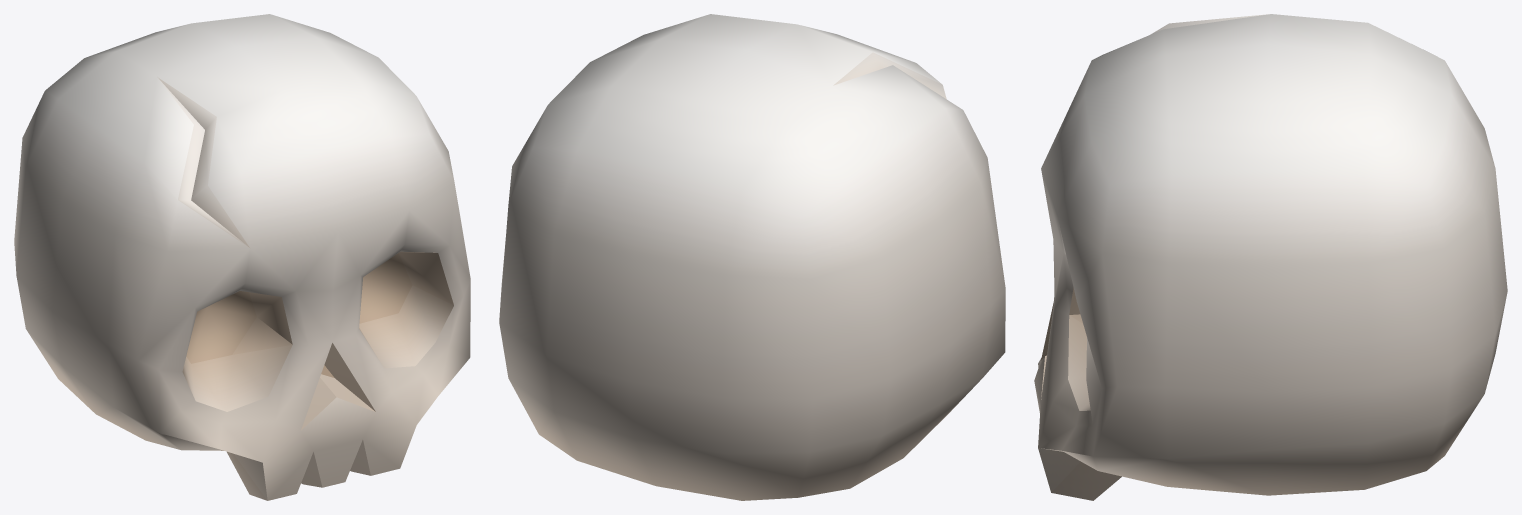
The model's file is Skull_.fbx.
3 renders of one model, left to right at view 1: azimuth 30°, elevation 25°; view 2: azimuth 150°, elevation 25°; view 3: azimuth 270°, elevation 25°, orthographic. The views are drawn at different scales.
Parts seen in each view (by area): view 1: Skull; view 2: Skull; view 3: Skull.
Boxes of the visible parts, x1,y1,x2,y2 form: Skull: (14,14,470,500); Skull: (499,14,1005,500); Skull: (1034,14,1507,500).
Size of the model in its own units: 9176 by 8982 by 9072.
